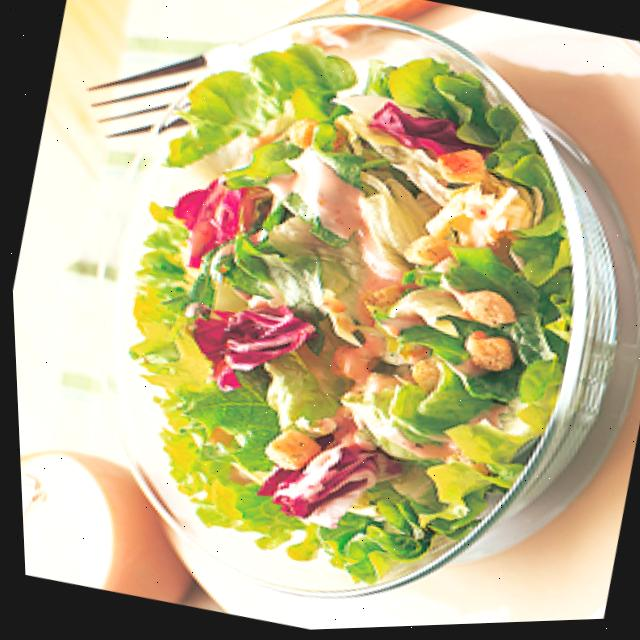蔬菜料理: (31, 0, 640, 639)
